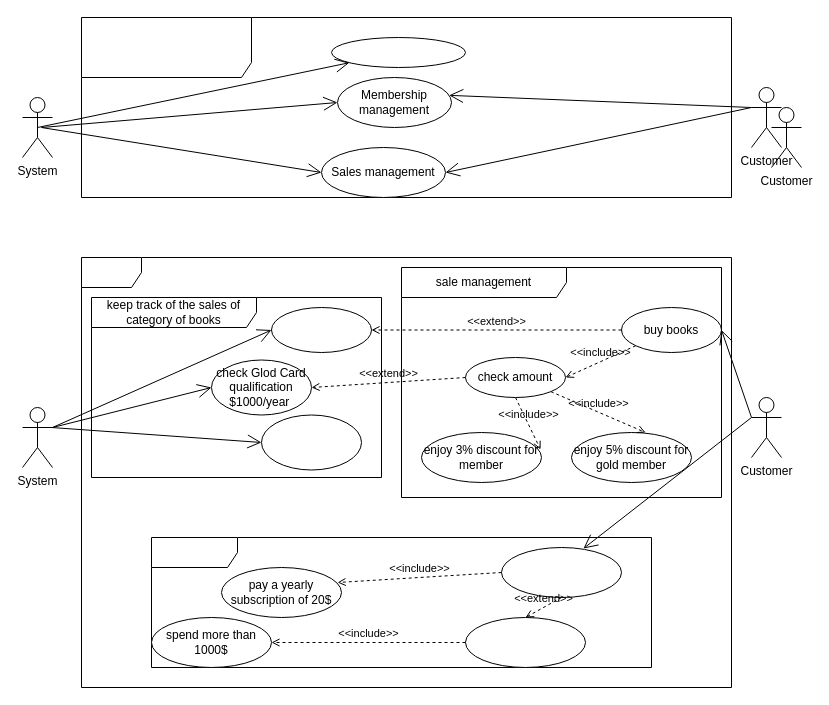
Some shapes in this 829 by 705 pixel diagram are drawn without their labels. Here are the shapes that lost their labels. From the top down, the box of each, then its label:
(330, 36, 466, 68): Book Category Tracking
(80, 16, 732, 198): customerrelationship management
(270, 306, 372, 352): track book sales by category
(260, 414, 362, 470): analyse Member Preference
(80, 256, 732, 688): frame
(500, 546, 622, 598): become a member
(150, 536, 652, 668): membersihp
(464, 616, 586, 668): become gold card member
